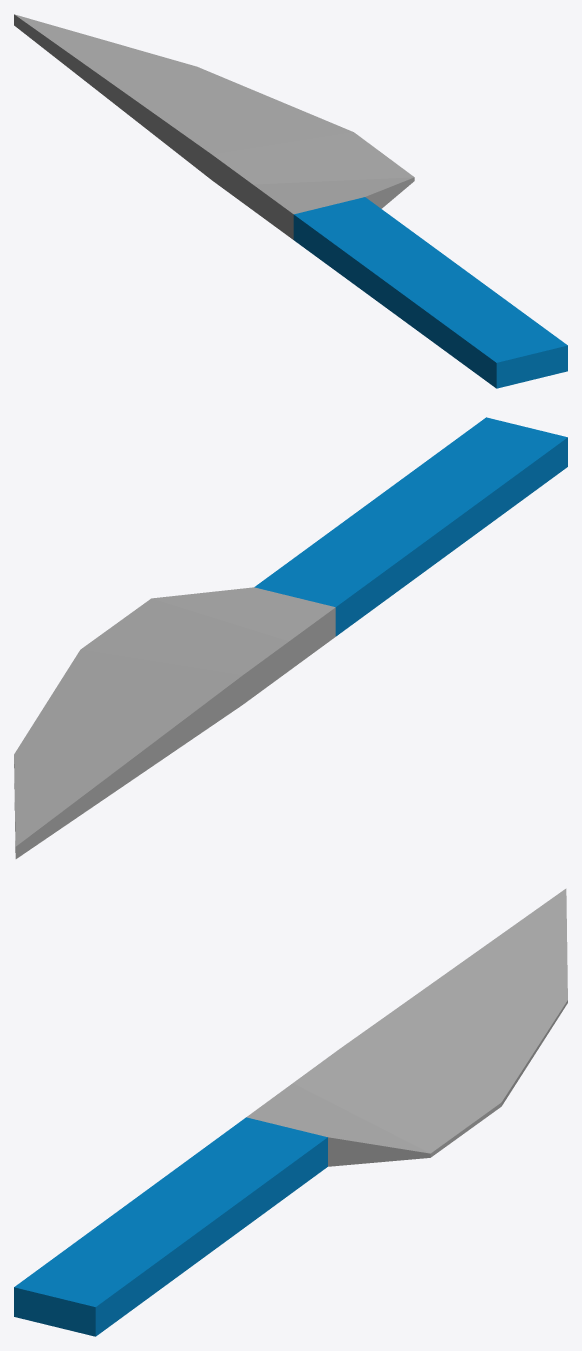
Rendered from Knife_Blue.fbx.
3 views of the same model, one above another, from view 1: azimuth 30°, elevation 25°; view 2: azimuth 150°, elevation 25°; view 3: azimuth 330°, elevation 25° (orthographic). The views are drawn at different scales.
Visible parts, largest first — view 1: Knife_Blue; view 2: Knife_Blue; view 3: Knife_Blue.
Boxes of the visible parts, left/top/right/bottom form: Knife_Blue: left=14, top=14, right=567, bottom=388; Knife_Blue: left=14, top=417, right=567, bottom=858; Knife_Blue: left=14, top=888, right=567, bottom=1336.
Bounding box in the file's own units: 2.94 × 0.513 × 17.37.
